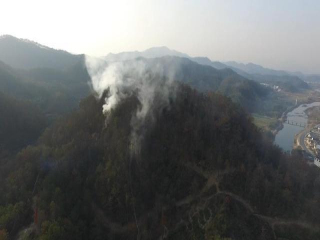smoke: (83, 50, 198, 151)
